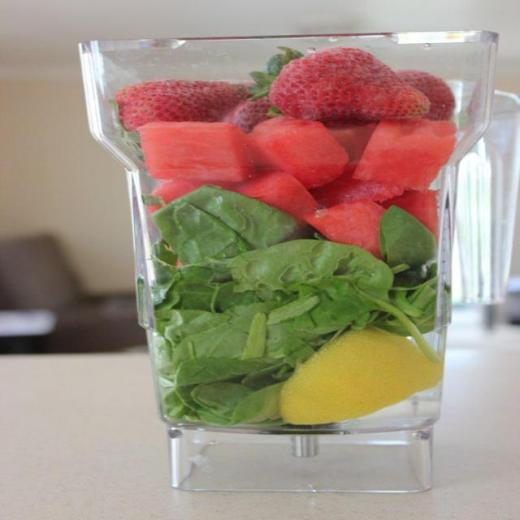Cherry: (143, 111, 456, 258)
